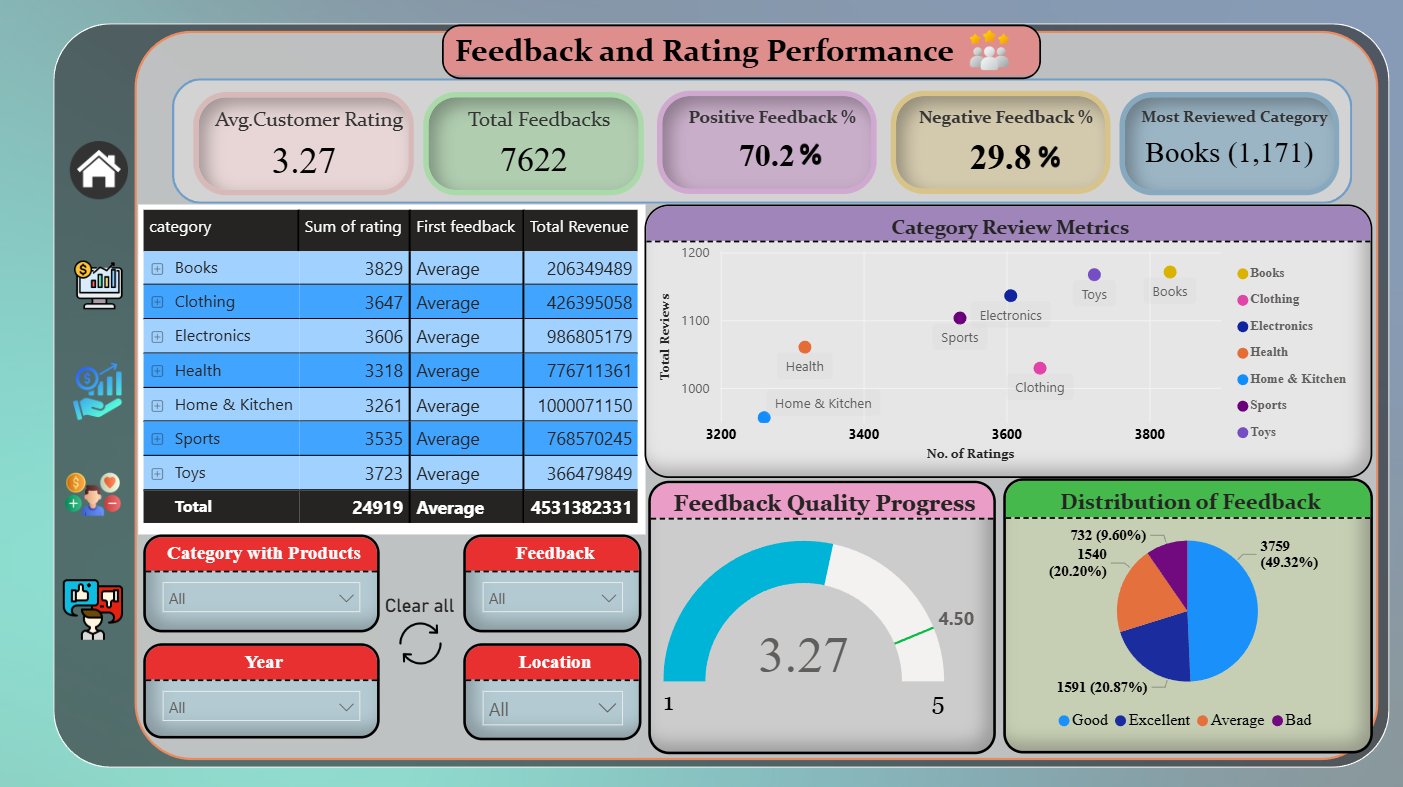

The dashboard page shown, as its layout file describes it:
{"tool":"powerbi","page":{"name":"Feedback & Rating ","canvas":[1280,720],"ordinal":4},"visuals":[{"type":"shape","box":[50.8,23.3,1211.7,675.1],"z":0},{"type":"shape","box":[124.9,30.2,1128,661.4],"z":1000},{"type":"shape","box":[159.2,74.1,1070.3,113.9],"z":2000},{"type":"card","title":"Avg.Customer Rating","fields":{"Values":["Ecommerce_Sales.Average Rating"]},"box":[178.4,86.4,200.3,93.3],"z":3000},{"type":"card","title":"Total Feedbacks","fields":{"Values":["Ecommerce_Sales.TotalFeedback"]},"box":[387,86.4,200.3,93.3],"z":4000},{"type":"card","title":"Positive Feedback %","fields":{"Values":["Ecommerce_Sales.PositiveFeedbackPercent"]},"box":[598.3,85.1,199,93.3],"z":5000},{"type":"card","title":"Negative Feedback %","fields":{"Values":["Ecommerce_Sales.NegativeFeedbackPercent"]},"box":[811,85.1,199,93.3],"z":6000},{"type":"card","title":"Most Reviewed Category","fields":{"Values":["Ecommerce_Sales.MostReviewedCategory"]},"box":[1018.2,86.4,199,93.3],"z":7000},{"type":"image","box":[713,125.6,49.6,34],"z":8000},{"type":"image","box":[930,128.7,49.6,34.1],"z":9000},{"type":"textbox","title":"Feedback and Rating Performance","box":[403.5,24.7,542.9,49.4],"z":10000},{"type":"pieChart","title":"Distribution of Feedback","fields":{"Category":["Ecommerce_Sales.feedback"],"Y":["CountNonNull(Ecommerce_Sales.feedback)"]},"box":[912.5,436.4,334.8,249.7],"z":11000},{"type":"pivotTable","fields":{"Rows":["Ecommerce_Sales.category","Ecommerce_Sales.product_name"],"Values":["Sum(Ecommerce_Sales.rating)","Min(Ecommerce_Sales.feedback)","Ecommerce_Sales.Total Revenue"]},"box":[127.6,188,459.7,299.1],"z":12000},{"type":"gauge","title":"Feedback Quality Progress","fields":{"MinValue":["Ecommerce_Sales.Gauge_Min"],"MaxValue":["Ecommerce_Sales.Gauge_Max"],"Y":["Ecommerce_Sales.Average Rating"],"TargetValue":["Ecommerce_Sales.Gauge_Target"]},"box":[590.8,438.4,315,248.2],"z":13000},{"type":"scatterChart","title":"Category Review Metrics","fields":{"X":["Sum(Ecommerce_Sales.rating)"],"Y":["Ecommerce_Sales.ReviewCount"],"Series":["Ecommerce_Sales.category"]},"box":[587.3,188,660,248.4],"z":14000},{"type":"image","box":[873.9,17.4,52.3,62.4],"z":15000},{"type":"slicer","title":"Category with Products","fields":{"Values":["Ecommerce_Sales.category","Ecommerce_Sales.product_name"]},"box":[133.1,487.1,214.1,89.2],"z":16000},{"type":"slicer","title":"Feedback","fields":{"Values":["Ecommerce_Sales.feedback"]},"box":[422.6,487.1,161.9,89.2],"z":17000},{"type":"slicer","title":"Year","fields":{"Values":["Ecommerce_Sales.year"]},"box":[133.1,585.9,214.1,86.4],"z":18000},{"type":"slicer","title":"Location","fields":{"Values":["Ecommerce_Sales.location"]},"box":[422.6,585.9,161.9,87.8],"z":19000},{"type":"image","box":[61,126.3,62.4,62.4],"z":20000},{"type":"image","box":[49.4,233.7,84.2,55.2],"z":21000},{"type":"image","box":[52.3,521.1,69.7,68.2],"z":22000},{"type":"image","box":[52.3,421,69.7,61],"z":23000},{"type":"image","box":[58.1,326.6,66.8,62.4],"z":24000},{"type":"image","title":"Clear all","box":[347.2,542,74.1,70],"z":25000}]}

Visuals, with their boxes in screenshot pixels (x1, y1, x2, y2), scaled from the page's 1280x720 canvas onto the 1403x787 screenshot:
shape: left=56, top=25, right=1384, bottom=763
shape: left=137, top=33, right=1373, bottom=756
shape: left=174, top=81, right=1348, bottom=205
"Avg.Customer Rating" card: left=196, top=94, right=415, bottom=196
"Total Feedbacks" card: left=424, top=94, right=644, bottom=196
"Positive Feedback %" card: left=656, top=93, right=874, bottom=195
"Negative Feedback %" card: left=889, top=93, right=1107, bottom=195
"Most Reviewed Category" card: left=1116, top=94, right=1334, bottom=196
image: left=782, top=137, right=836, bottom=174
image: left=1019, top=141, right=1074, bottom=178
"Feedback and Rating Performance" textbox: left=442, top=27, right=1037, bottom=81
"Distribution of Feedback" pieChart: left=1000, top=477, right=1367, bottom=750
pivotTable - Ecommerce_Sales.category x Ecommerce_Sales.product_name: left=140, top=205, right=644, bottom=532
"Feedback Quality Progress" gauge: left=648, top=479, right=993, bottom=750
"Category Review Metrics" scatterChart: left=644, top=205, right=1367, bottom=477
image: left=958, top=19, right=1015, bottom=87
"Category with Products" slicer: left=146, top=532, right=381, bottom=630
"Feedback" slicer: left=463, top=532, right=641, bottom=630
"Year" slicer: left=146, top=640, right=381, bottom=735
"Location" slicer: left=463, top=640, right=641, bottom=736
image: left=67, top=138, right=135, bottom=206
image: left=54, top=255, right=146, bottom=316
image: left=57, top=570, right=134, bottom=644
image: left=57, top=460, right=134, bottom=527
image: left=64, top=357, right=137, bottom=425
"Clear all" image: left=381, top=592, right=462, bottom=669
